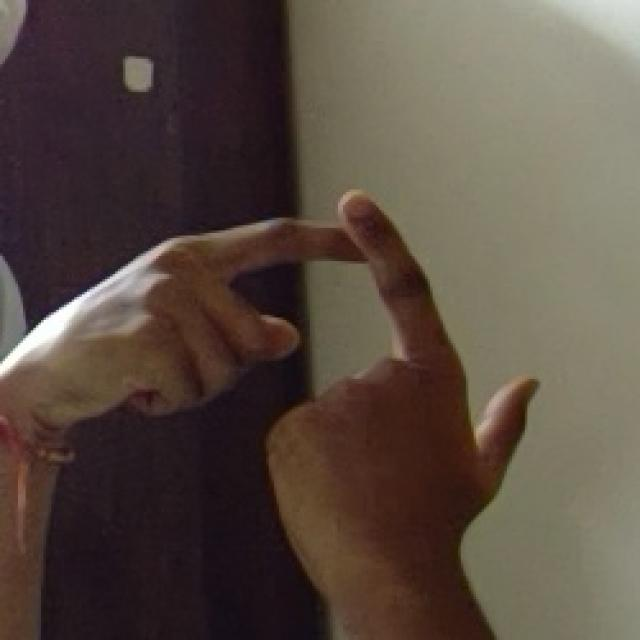Alphabet-J: (33, 185, 540, 640)
